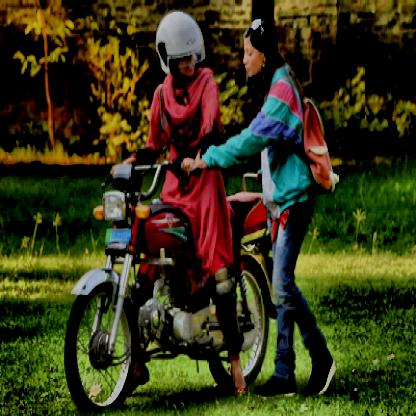not_wear: (239, 21, 273, 83)
wear: (158, 10, 198, 83)
